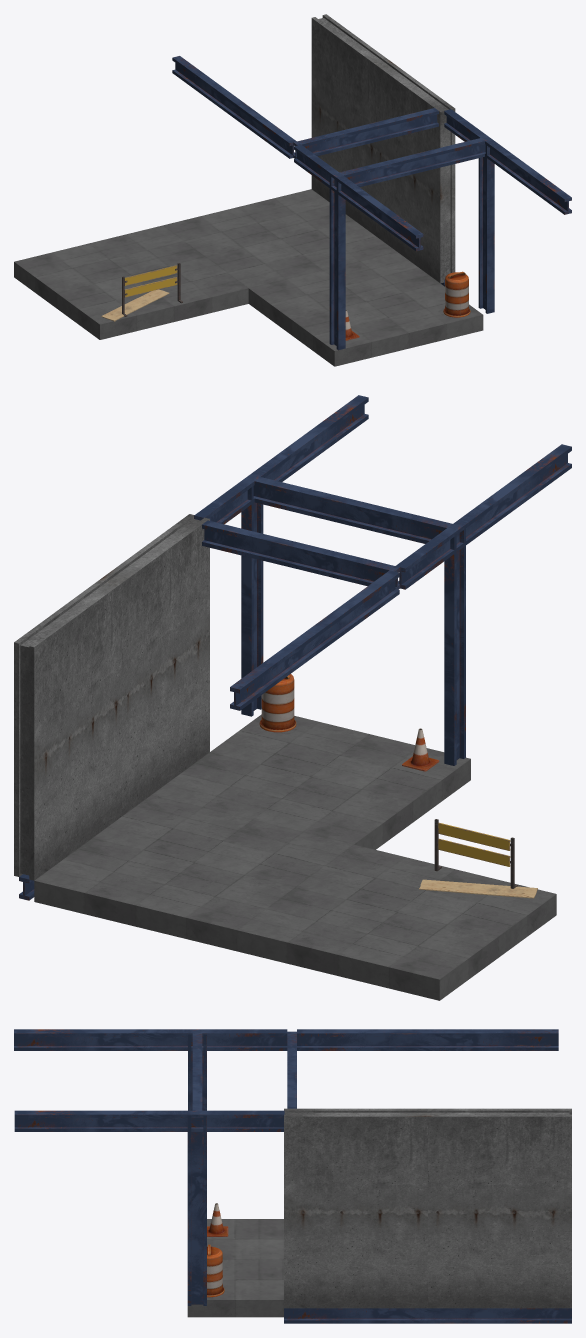
The model's file is BuildingMap_0_0.gltf.
3 renders of one model, top to bottom at view 1: azimuth 30°, elevation 25°; view 2: azimuth 150°, elevation 25°; view 3: azimuth 270°, elevation 25°, orthographic. The views are drawn at different scales.
Visible parts, largest first — view 1: SM_Building_Pieces_WallConcrete6m, SM_Floors_Thick_100, SM_Floors_Thick_99, SM_Floors_Thick_3, SM_Building_Pieces_2_SteelRudder12, SM_Building_Pieces_2_SteelRudder16, SM_Building_Pieces_2_SteelRudder14, SM_Building_Pieces_2_SteelRudder15, SM_Building_Pieces_2_SteelRudder10, SM_Building_Pieces_2_SteelRudder8, SM_Building_Pieces_2_SteelRudder11, SM_Exterior_1__Barrier_18 (+2 smaller); view 2: SM_Building_Pieces_WallConcrete6m, SM_Floors_Thick_100, SM_Floors_Thick_3, SM_Floors_Thick_99, SM_Building_Pieces_2_SteelRudder12, SM_Building_Pieces_2_SteelRudder16, SM_Building_Pieces_2_SteelRudder14, SM_Building_Pieces_2_SteelRudder15, SM_Building_Pieces_2_SteelRudder10, SM_Building_Pieces_2_SteelRudder8, SM_Building_Pieces_2_SteelRudder11, SM_Exterior_1__Barrier_18 (+2 smaller); view 3: SM_Building_Pieces_WallConcrete6m, SM_Floors_Thick_99, SM_Building_Pieces_2_SteelRudder16, SM_Building_Pieces_2_SteelRudder12, SM_Building_Pieces_2_SteelRudder8, SM_Building_Pieces_2_SteelRudder68, SM_Building_Pieces_2_SteelRudder11, SM_Building_Pieces_2_SteelRudder14, SM_Cones_C50, SM_Building_Pieces_2_SteelRudder15, SM_Building_Pieces_2_SteelRudder10, SM_Cones_C49.
Boxes of the visible parts, x1,y1,x2,y2 form: SM_Building_Pieces_WallConcrete6m: (311,14,455,283); SM_Floors_Thick_100: (14,225,248,339); SM_Floors_Thick_99: (248,252,483,366); SM_Floors_Thick_3: (163,189,396,288); SM_Building_Pieces_2_SteelRudder12: (294,144,423,251); SM_Building_Pieces_2_SteelRudder16: (172,56,296,158); SM_Building_Pieces_2_SteelRudder14: (339,138,485,187); SM_Building_Pieces_2_SteelRudder15: (293,108,438,158); SM_Building_Pieces_2_SteelRudder10: (329,176,345,350); SM_Building_Pieces_2_SteelRudder8: (444,109,571,214); SM_Building_Pieces_2_SteelRudder11: (478,145,494,313); SM_Exterior_1__Barrier_18: (122,263,182,316); SM_Building_Pieces_WallConcrete6m: (14,514,209,880); SM_Floors_Thick_100: (237,844,556,1000); SM_Floors_Thick_3: (34,795,353,951); SM_Floors_Thick_99: (152,714,470,849); SM_Building_Pieces_2_SteelRudder12: (396,444,571,589); SM_Building_Pieces_2_SteelRudder16: (230,570,399,710); SM_Building_Pieces_2_SteelRudder14: (253,477,452,543); SM_Building_Pieces_2_SteelRudder15: (202,520,400,589); SM_Building_Pieces_2_SteelRudder10: (444,528,465,765); SM_Building_Pieces_2_SteelRudder8: (194,395,368,524); SM_Building_Pieces_2_SteelRudder11: (241,486,263,716); SM_Exterior_1__Barrier_18: (434,819,517,888); SM_Building_Pieces_WallConcrete6m: (284,1108,571,1308); SM_Floors_Thick_99: (187,1219,283,1317); SM_Building_Pieces_2_SteelRudder16: (297,1029,558,1050); SM_Building_Pieces_2_SteelRudder12: (14,1029,287,1050); SM_Building_Pieces_2_SteelRudder8: (14,1110,284,1131); SM_Building_Pieces_2_SteelRudder68: (284,1308,571,1323); SM_Building_Pieces_2_SteelRudder11: (187,1115,206,1305); SM_Building_Pieces_2_SteelRudder14: (192,1033,202,1110); SM_Cones_C50: (207,1244,224,1297); SM_Building_Pieces_2_SteelRudder15: (287,1031,296,1108); SM_Building_Pieces_2_SteelRudder10: (188,1034,206,1110); SM_Cones_C49: (207,1203,228,1236).
Size of the model in its own units: 8.4 by 4.8 by 11.62.
6 materials, 6 textured.
